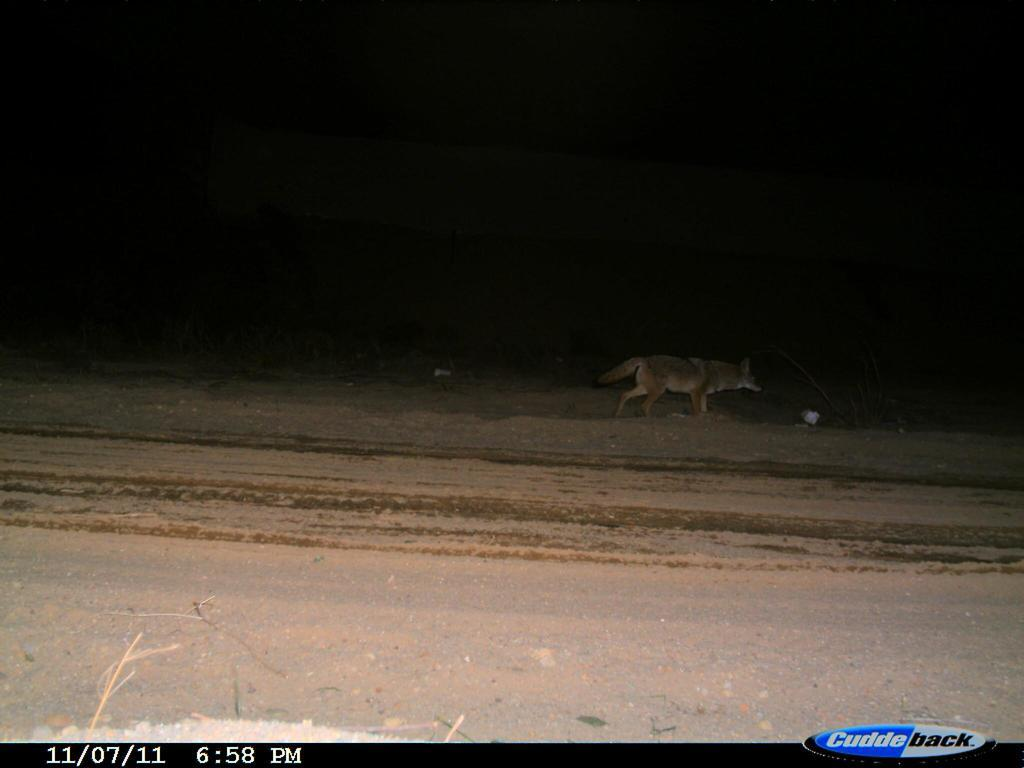coyote: (593, 341, 769, 436)
